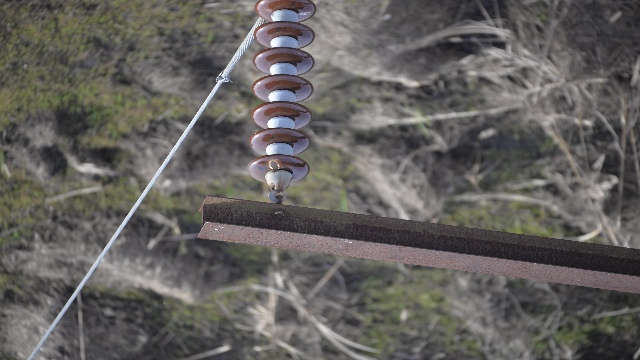insulator_unspecified: (246, 0, 317, 184)
pollution_flashover_local: (266, 157, 282, 171), (299, 12, 312, 17), (264, 8, 273, 13)
